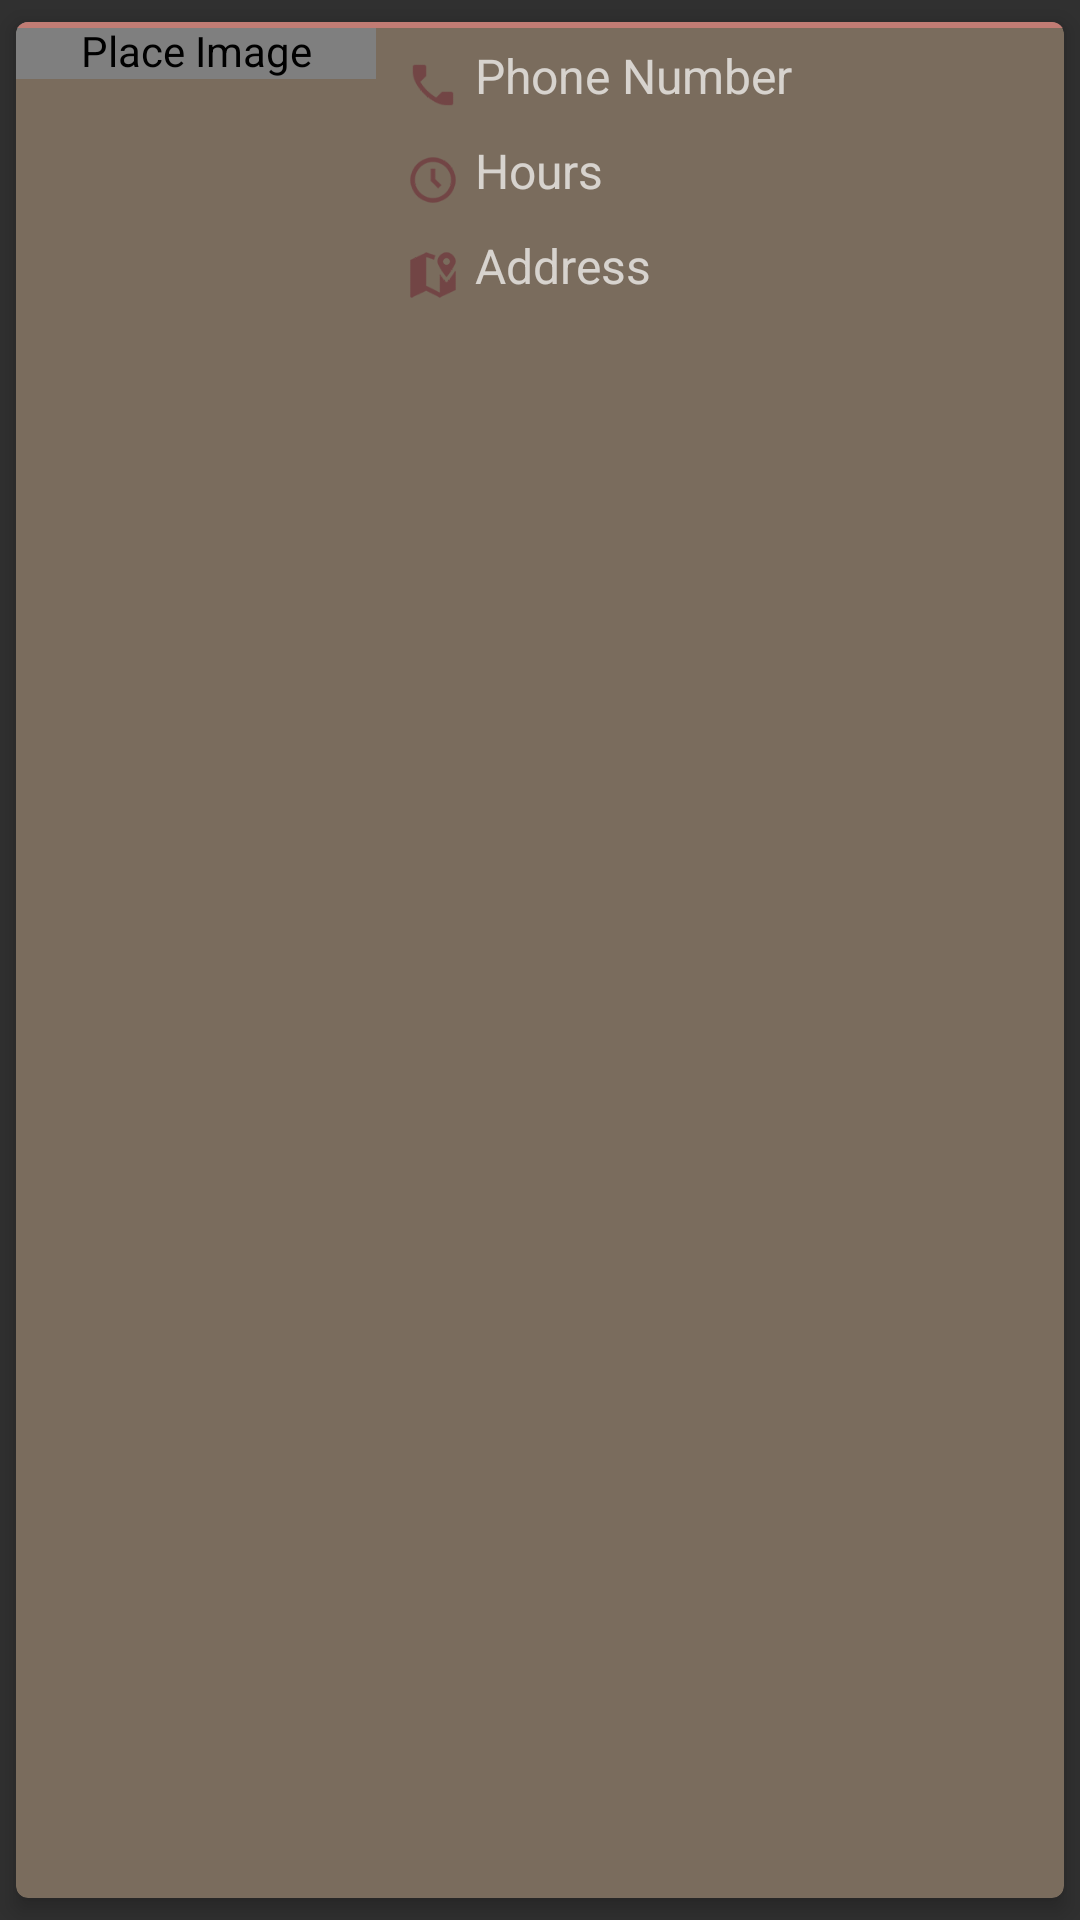

Icons on this 1080 x 1920 Android screen, each with the point to tap as point (x, y):
placescard map: point (433, 275)
placescard phone: point (433, 85)
placescard time: point (433, 180)
